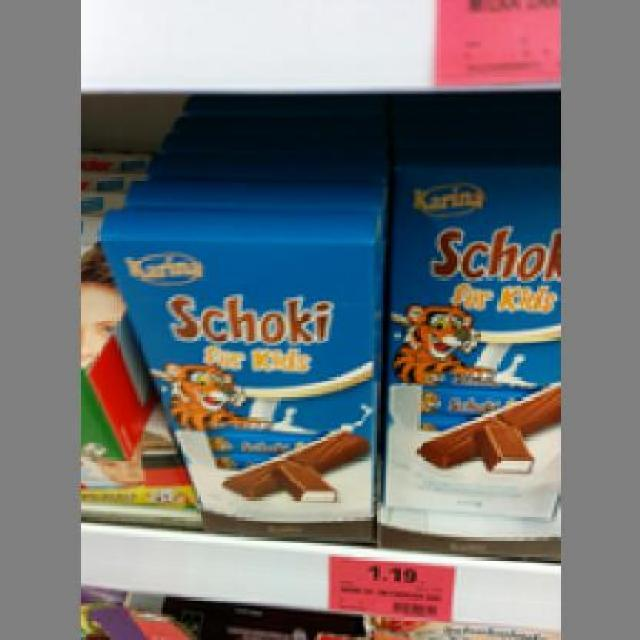Chocolate: (94, 203, 380, 540), (386, 152, 557, 518)
